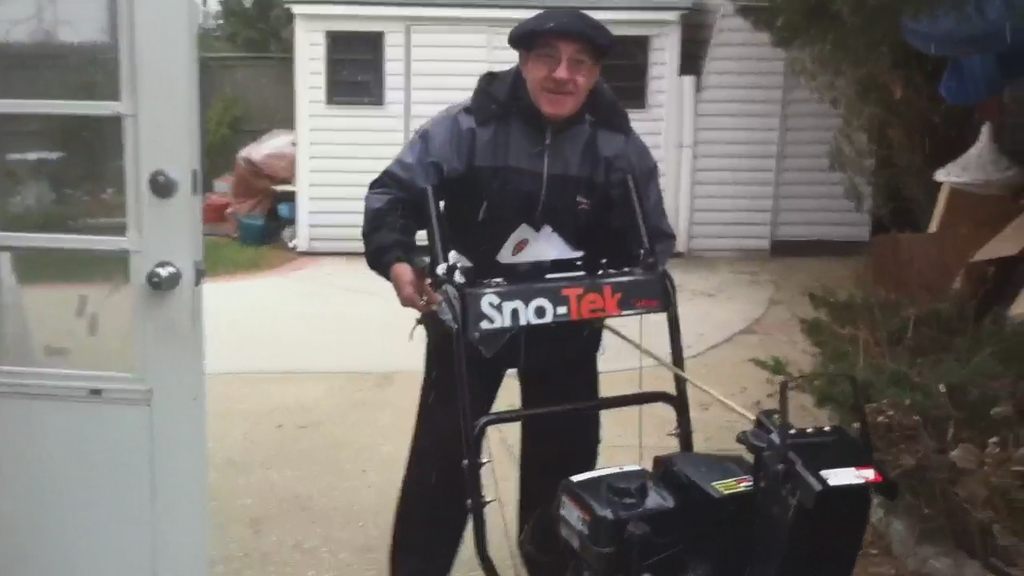Person: (360, 7, 677, 576)
